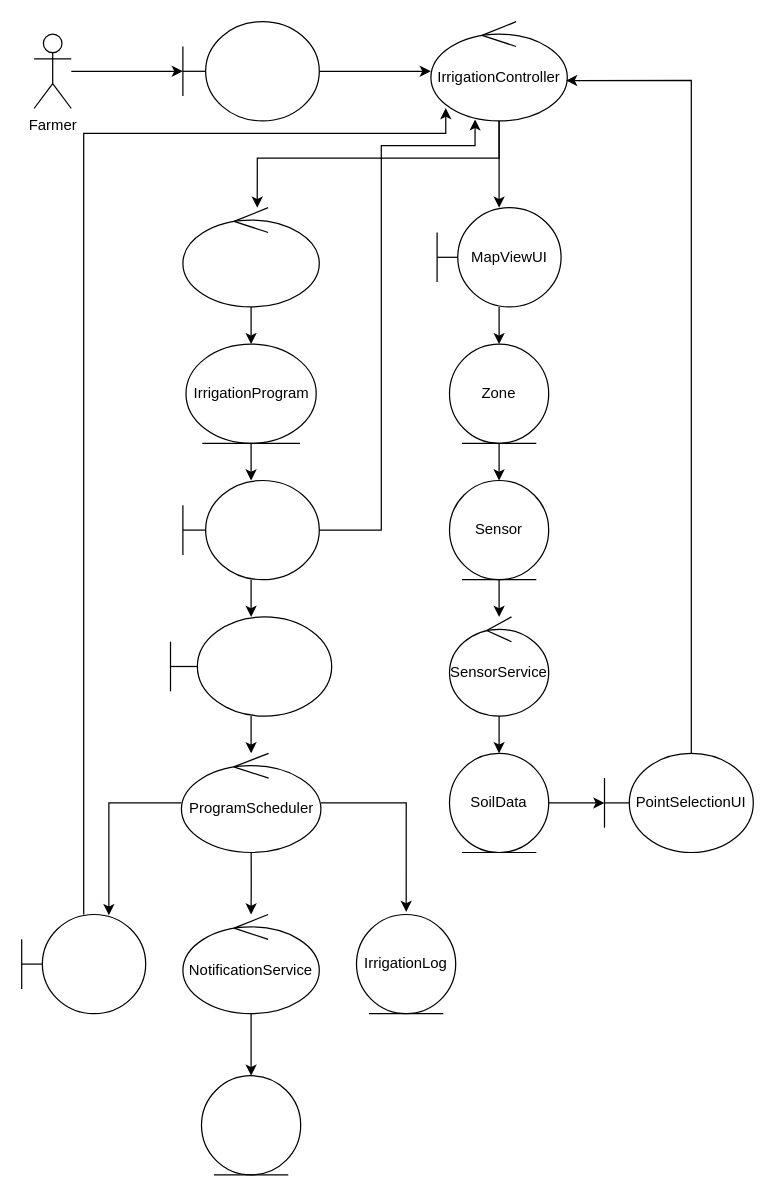
The diagram is 775 pixels wide and 1197 high, and some of its shapes have lost their labels. The shapes that lost their labels are listed below. From the top down, each one's box as (x1, y1, x2, y2) in pixels, then its label:
(182, 20, 319, 121): IrrigationMenuUI
(182, 206, 319, 307): AIProgramService
(182, 479, 319, 580): ProgramViewUI
(169, 616, 332, 716): ProgramSettings UI
(20, 913, 146, 1014): ErrorPopupUI
(200, 1074, 301, 1175): Notification
